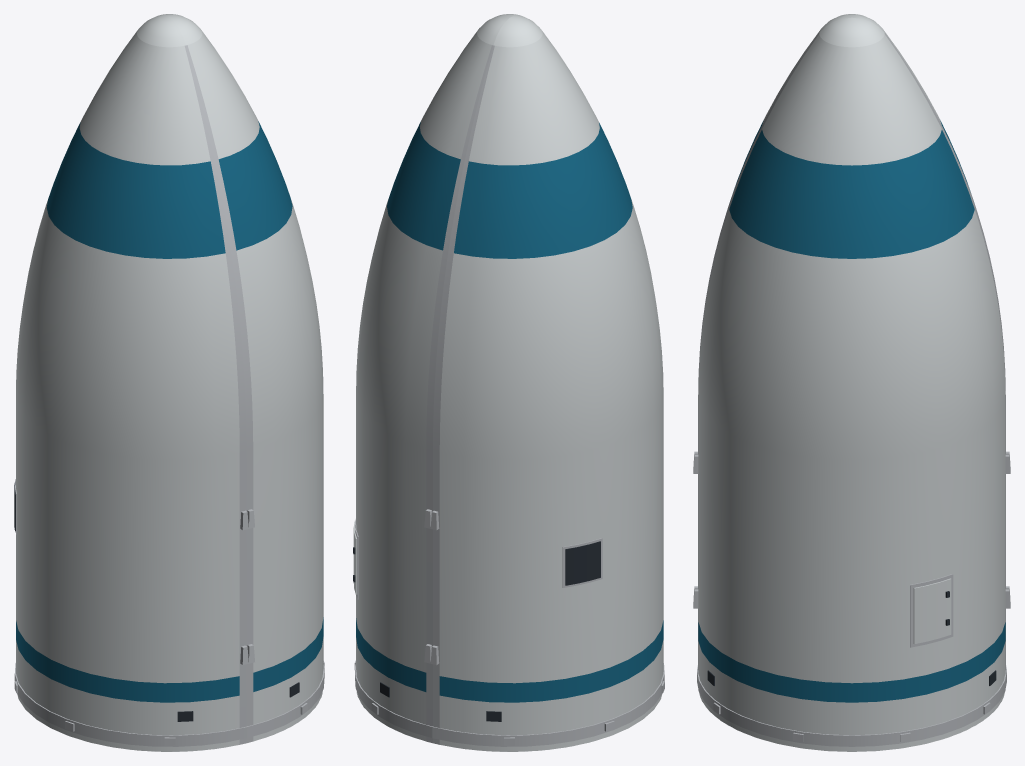
The model's file is fairing_small.glb.
3 views of the same model, side by side, from view 1: azimuth 30°, elevation 25°; view 2: azimuth 150°, elevation 25°; view 3: azimuth 270°, elevation 25° (orthographic).
Visible parts, largest first — view 1: fairing_small_half_b_mesh, fairing_small_half_a_mesh; view 2: fairing_small_half_b_mesh, fairing_small_half_a_mesh; view 3: fairing_small_half_a_mesh, fairing_small_half_b_mesh.
Boxes of the visible parts, left/top/right/bottom form: fairing_small_half_b_mesh: left=14, top=15, right=248, bottom=751; fairing_small_half_a_mesh: left=161, top=14, right=324, bottom=742; fairing_small_half_b_mesh: left=430, top=15, right=664, bottom=751; fairing_small_half_a_mesh: left=353, top=14, right=517, bottom=743; fairing_small_half_a_mesh: left=693, top=17, right=1010, bottom=751; fairing_small_half_b_mesh: left=693, top=14, right=1010, bottom=670.
Size of the model in its own units: 1.51 by 3.6 by 1.55.
